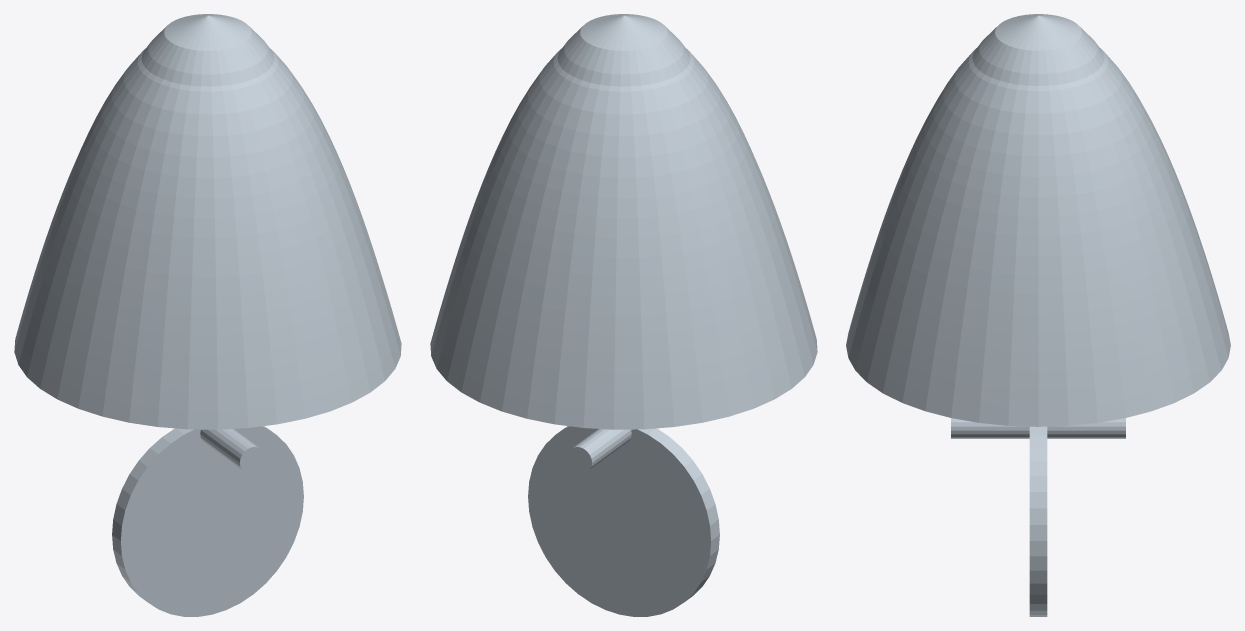
The model's file is 1789180024502_Brandy_Snifter_glb.glb.
3 renders of one model, left to right at view 1: azimuth 30°, elevation 25°; view 2: azimuth 150°, elevation 25°; view 3: azimuth 270°, elevation 25°, orthographic.
Parts seen in each view (by area): view 1: world; view 2: world; view 3: world.
Part boxes in pixels (x1,y1,x2,y2): world: [14, 14, 401, 616]; world: [430, 14, 817, 616]; world: [846, 14, 1230, 616].
Size of the model in its own units: 0.11 by 0.1865 by 0.11.
